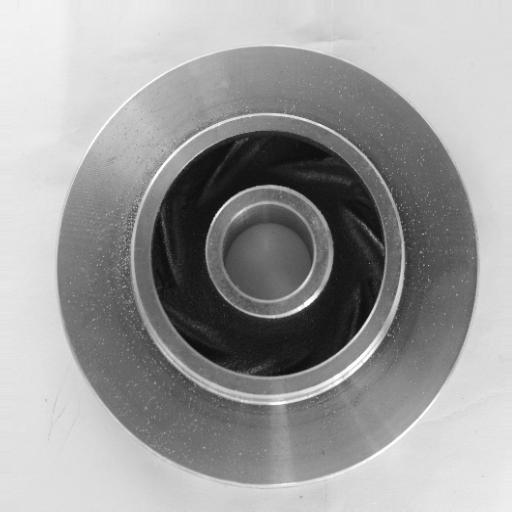polished_casting: (53, 44, 481, 489)
